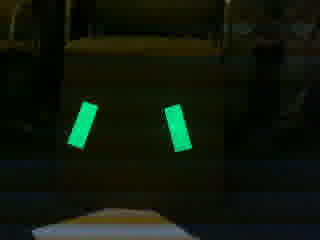target: (62, 100, 201, 156)
